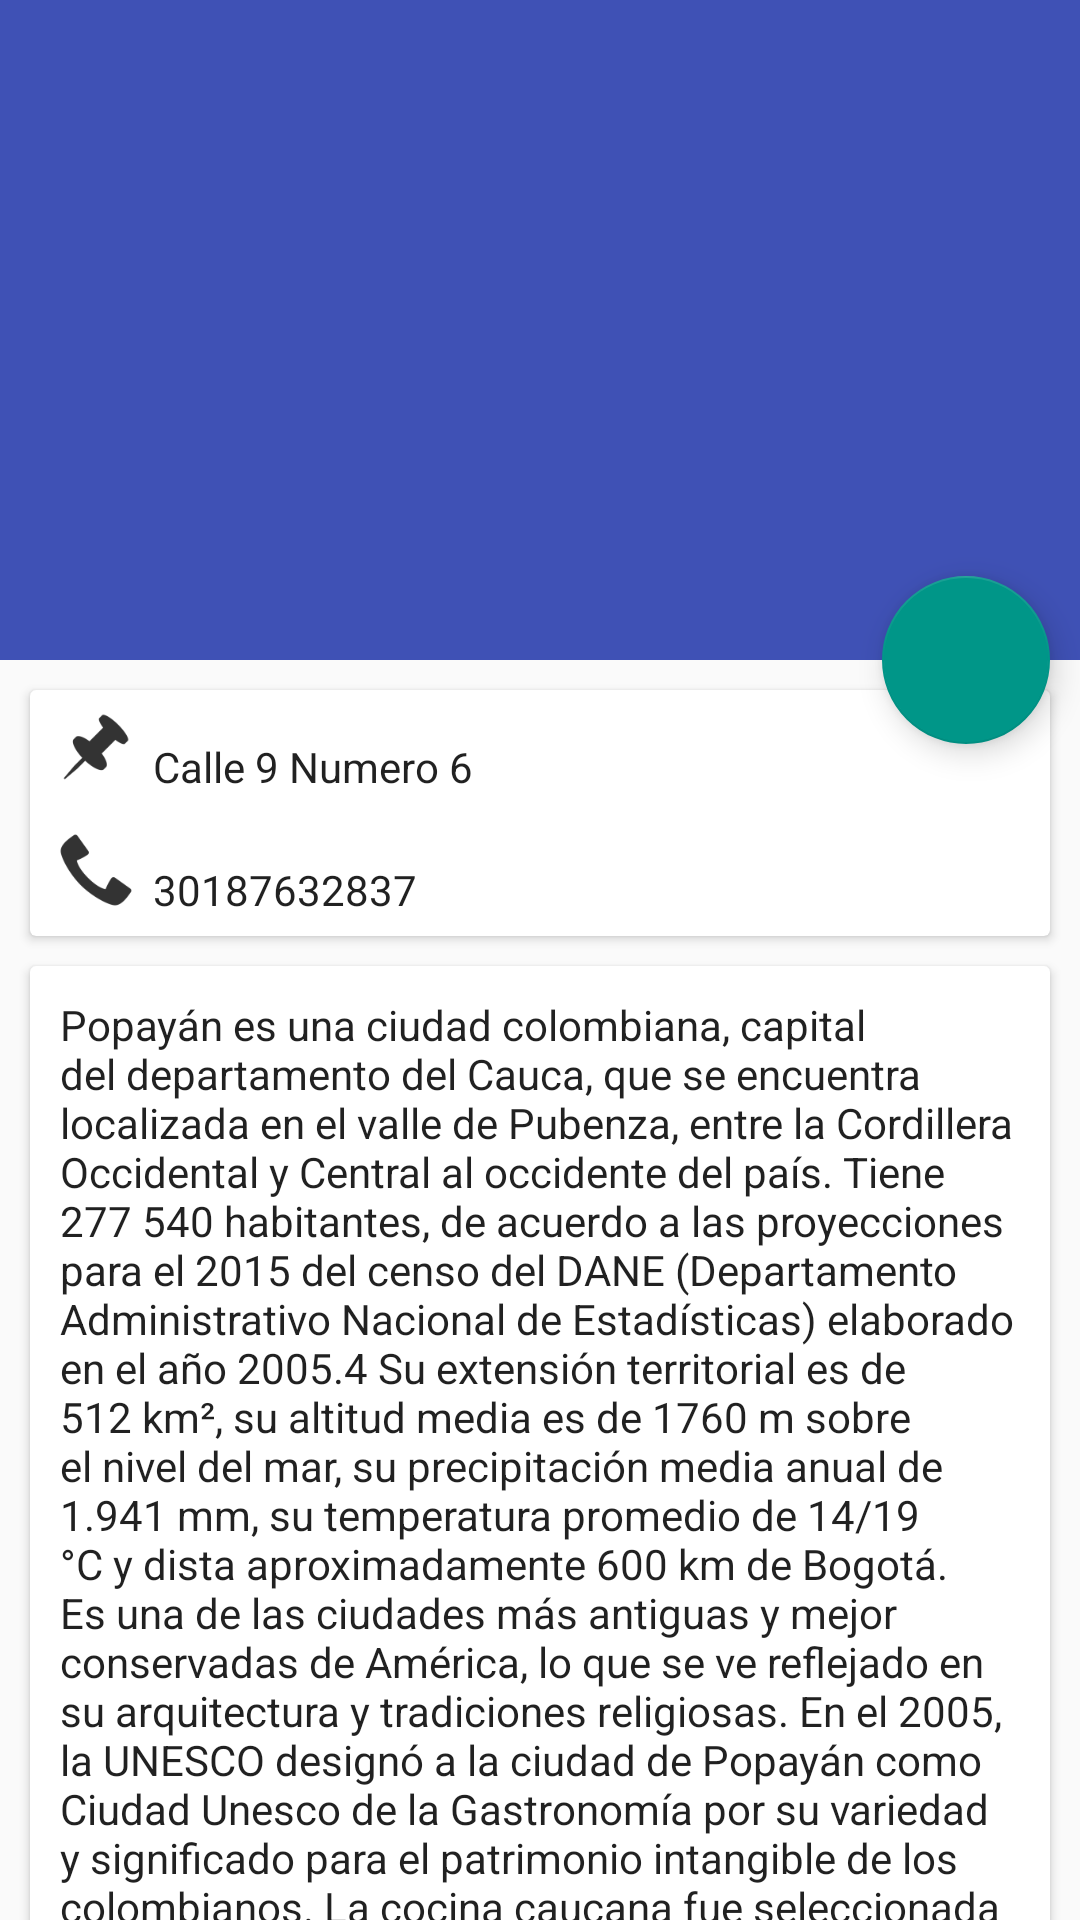

Named icons in this screenshot (1080w x 1920h) and their centers, point (x, y):
location: point (96, 747)
